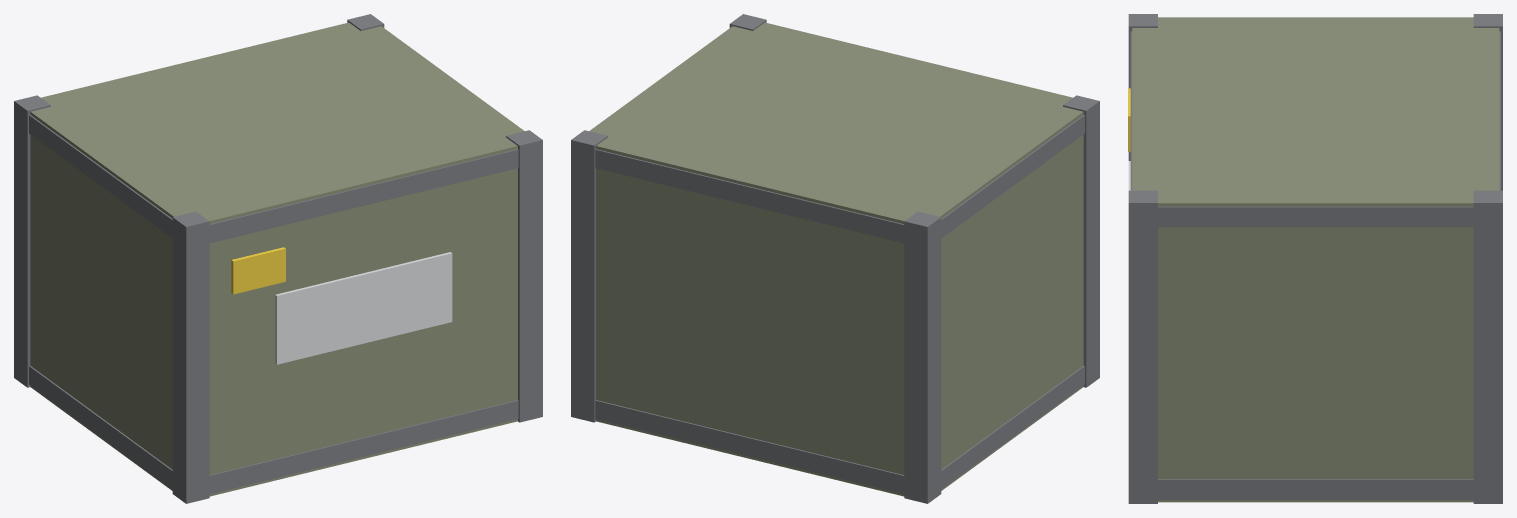
The model's file is SM_Crate_Large.glb.
3 renders of one model, left to right at view 1: azimuth 30°, elevation 25°; view 2: azimuth 150°, elevation 25°; view 3: azimuth 270°, elevation 25°, orthographic. The views are drawn at different scales.
Parts seen in each view (by area): view 1: SM_Crate_Large; view 2: SM_Crate_Large; view 3: SM_Crate_Large.
Boxes of the visible parts, x1,y1,x2,y2 form: SM_Crate_Large: (14,14,542,503); SM_Crate_Large: (571,14,1099,503); SM_Crate_Large: (1128,14,1502,503).
Size of the model in its own units: 1.22 by 0.905 by 1.02.
